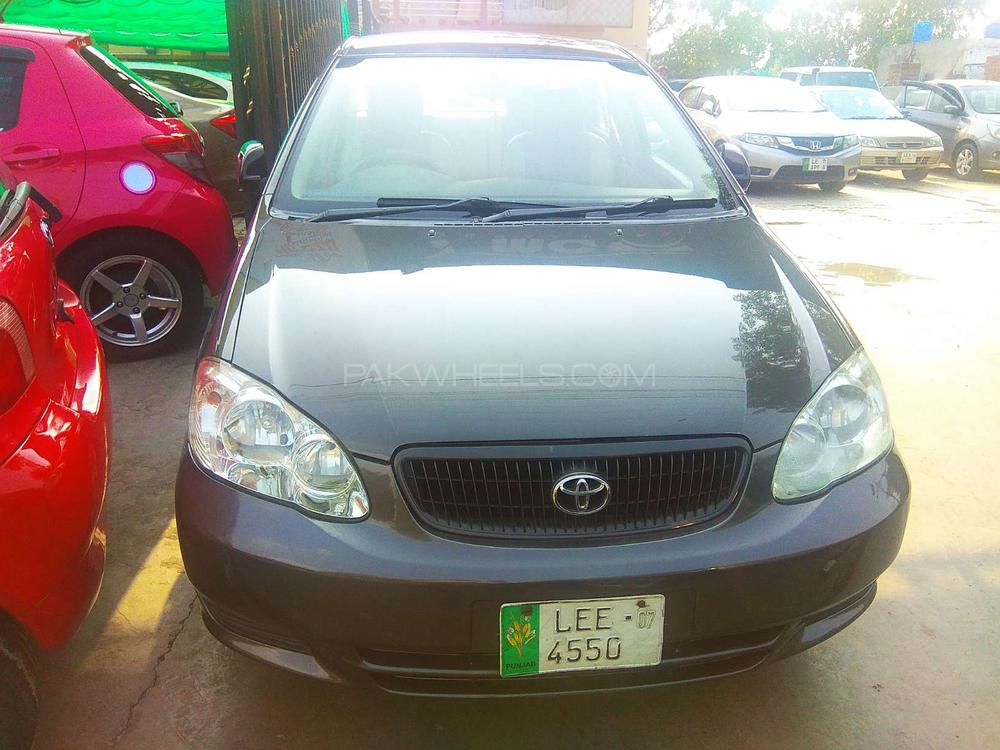license plate: (500, 602, 663, 672)
